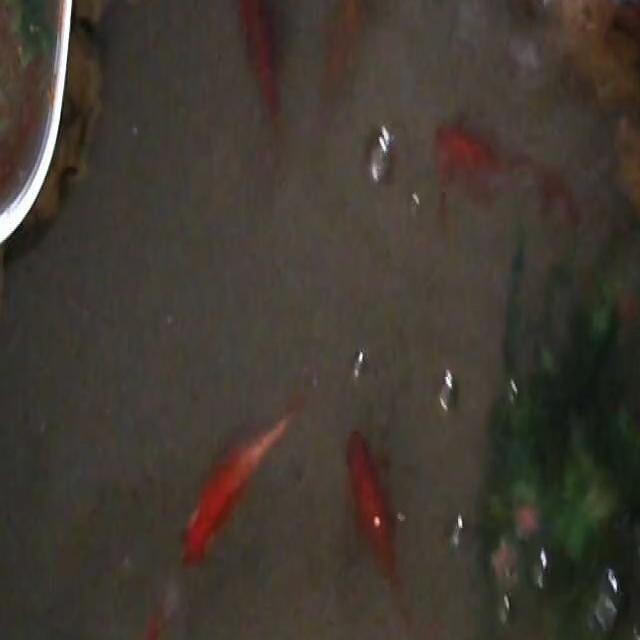fish: (180, 391, 309, 570), (434, 117, 574, 234), (344, 426, 407, 606), (233, 0, 281, 133), (322, 0, 369, 98)
